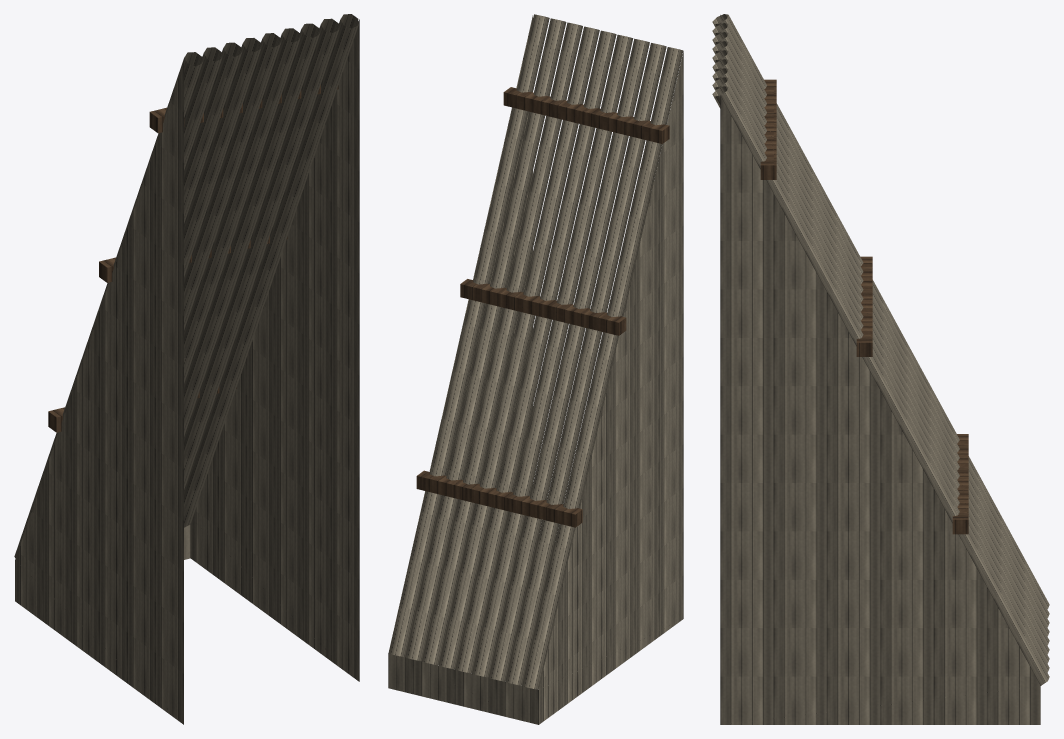
The model's file is Rampart_Buttress_Wood_1.gltf.
3 views of the same model, side by side, from view 1: azimuth 30°, elevation 25°; view 2: azimuth 150°, elevation 25°; view 3: azimuth 270°, elevation 25° (orthographic). The views are drawn at different scales.
Visible parts, largest first — view 1: Rampart_Buttress_Wood_1; view 2: Rampart_Buttress_Wood_1; view 3: Rampart_Buttress_Wood_1.
Boxes of the visible parts, x1=… form: Rampart_Buttress_Wood_1: x1=14, y1=14, x2=359, y2=724; Rampart_Buttress_Wood_1: x1=388, y1=14, x2=683, y2=724; Rampart_Buttress_Wood_1: x1=712, y1=14, x2=1049, y2=724.
Size of the model in its own units: 3.8 by 13.08 by 6.32.
Materials: 2 (2 with a texture image).
